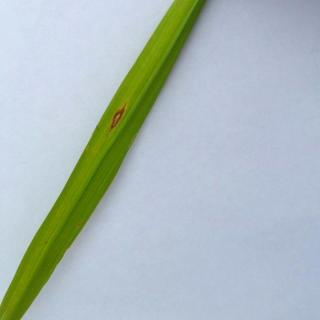Blast: (106, 101, 129, 132)
